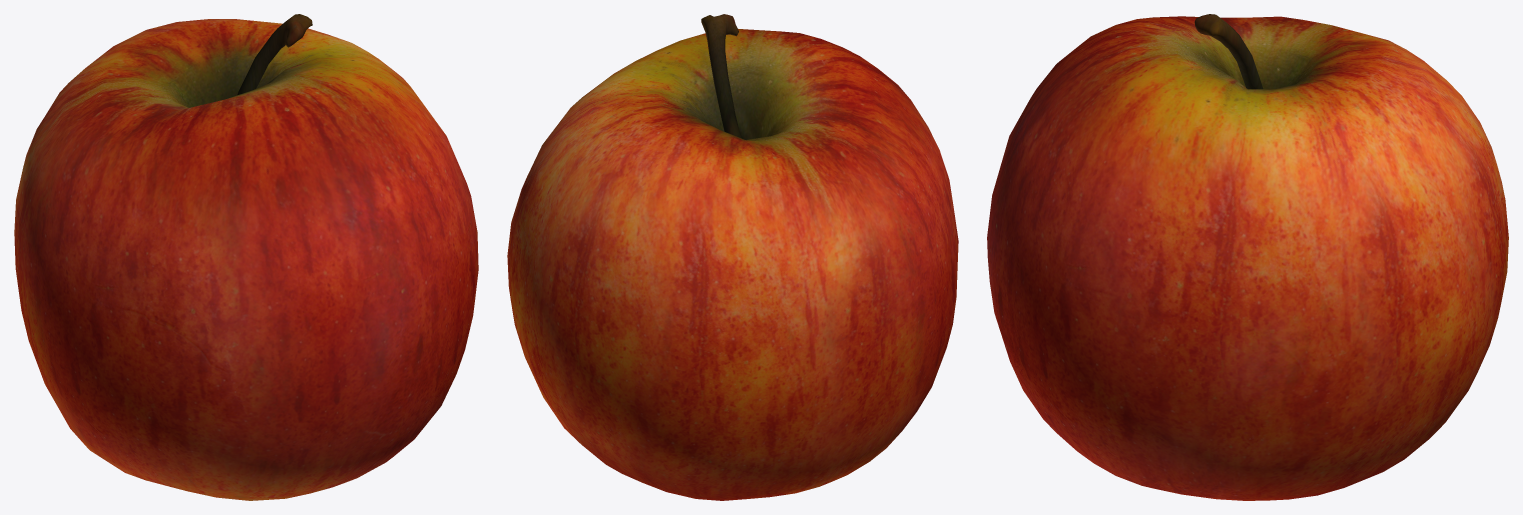
File: apple.glb
3 renders of one model, left to right at view 1: azimuth 30°, elevation 25°; view 2: azimuth 150°, elevation 25°; view 3: azimuth 270°, elevation 25°, orthographic. The views are drawn at different scales.
Visible parts, largest first — view 1: apple_low_obj_Material #35_0; view 2: apple_low_obj_Material #35_0; view 3: apple_low_obj_Material #35_0.
Part boxes in pixels (<box>): apple_low_obj_Material #35_0: <box>14,14,478,500</box>; apple_low_obj_Material #35_0: <box>507,14,958,500</box>; apple_low_obj_Material #35_0: <box>987,14,1508,500</box>.
Size of the model in its own units: 3.82 by 4 by 4.11.
Materials: 1 (1 with a texture image).
